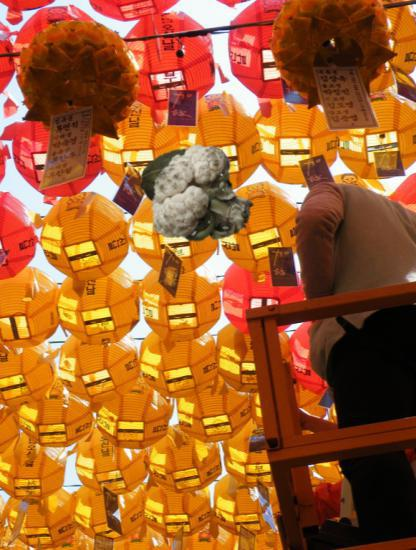Cauliflower: (151, 143, 257, 249)
Melon: (140, 134, 226, 220)
